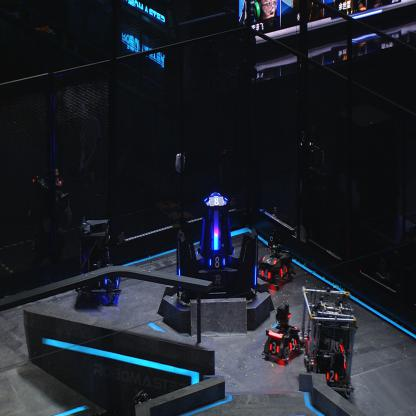car: (302, 281, 357, 400), (75, 215, 122, 301), (261, 302, 302, 363), (255, 234, 294, 290)
